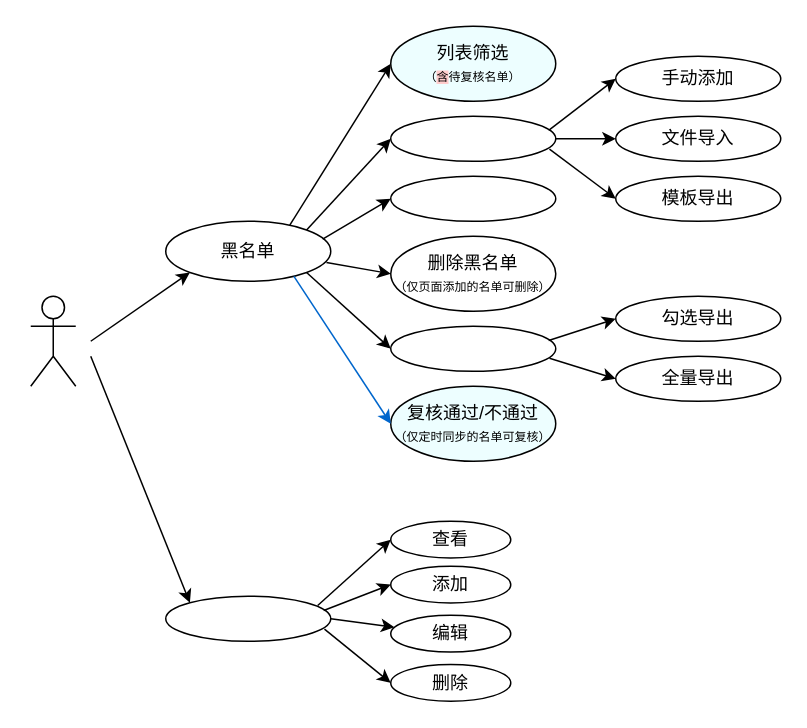
Some shapes in this 807 by 728 pixel diagram are drawn without their labels. The centre of each missing label's shape, as x and y in pixels:
"批量导入" goes at (x=472, y=198).
"批量导出" goes at (x=472, y=348).
"添加黑名单" goes at (x=472, y=138).
"管理员" goes at (x=52, y=340).
"黑名单业务" goes at (x=247, y=618).
